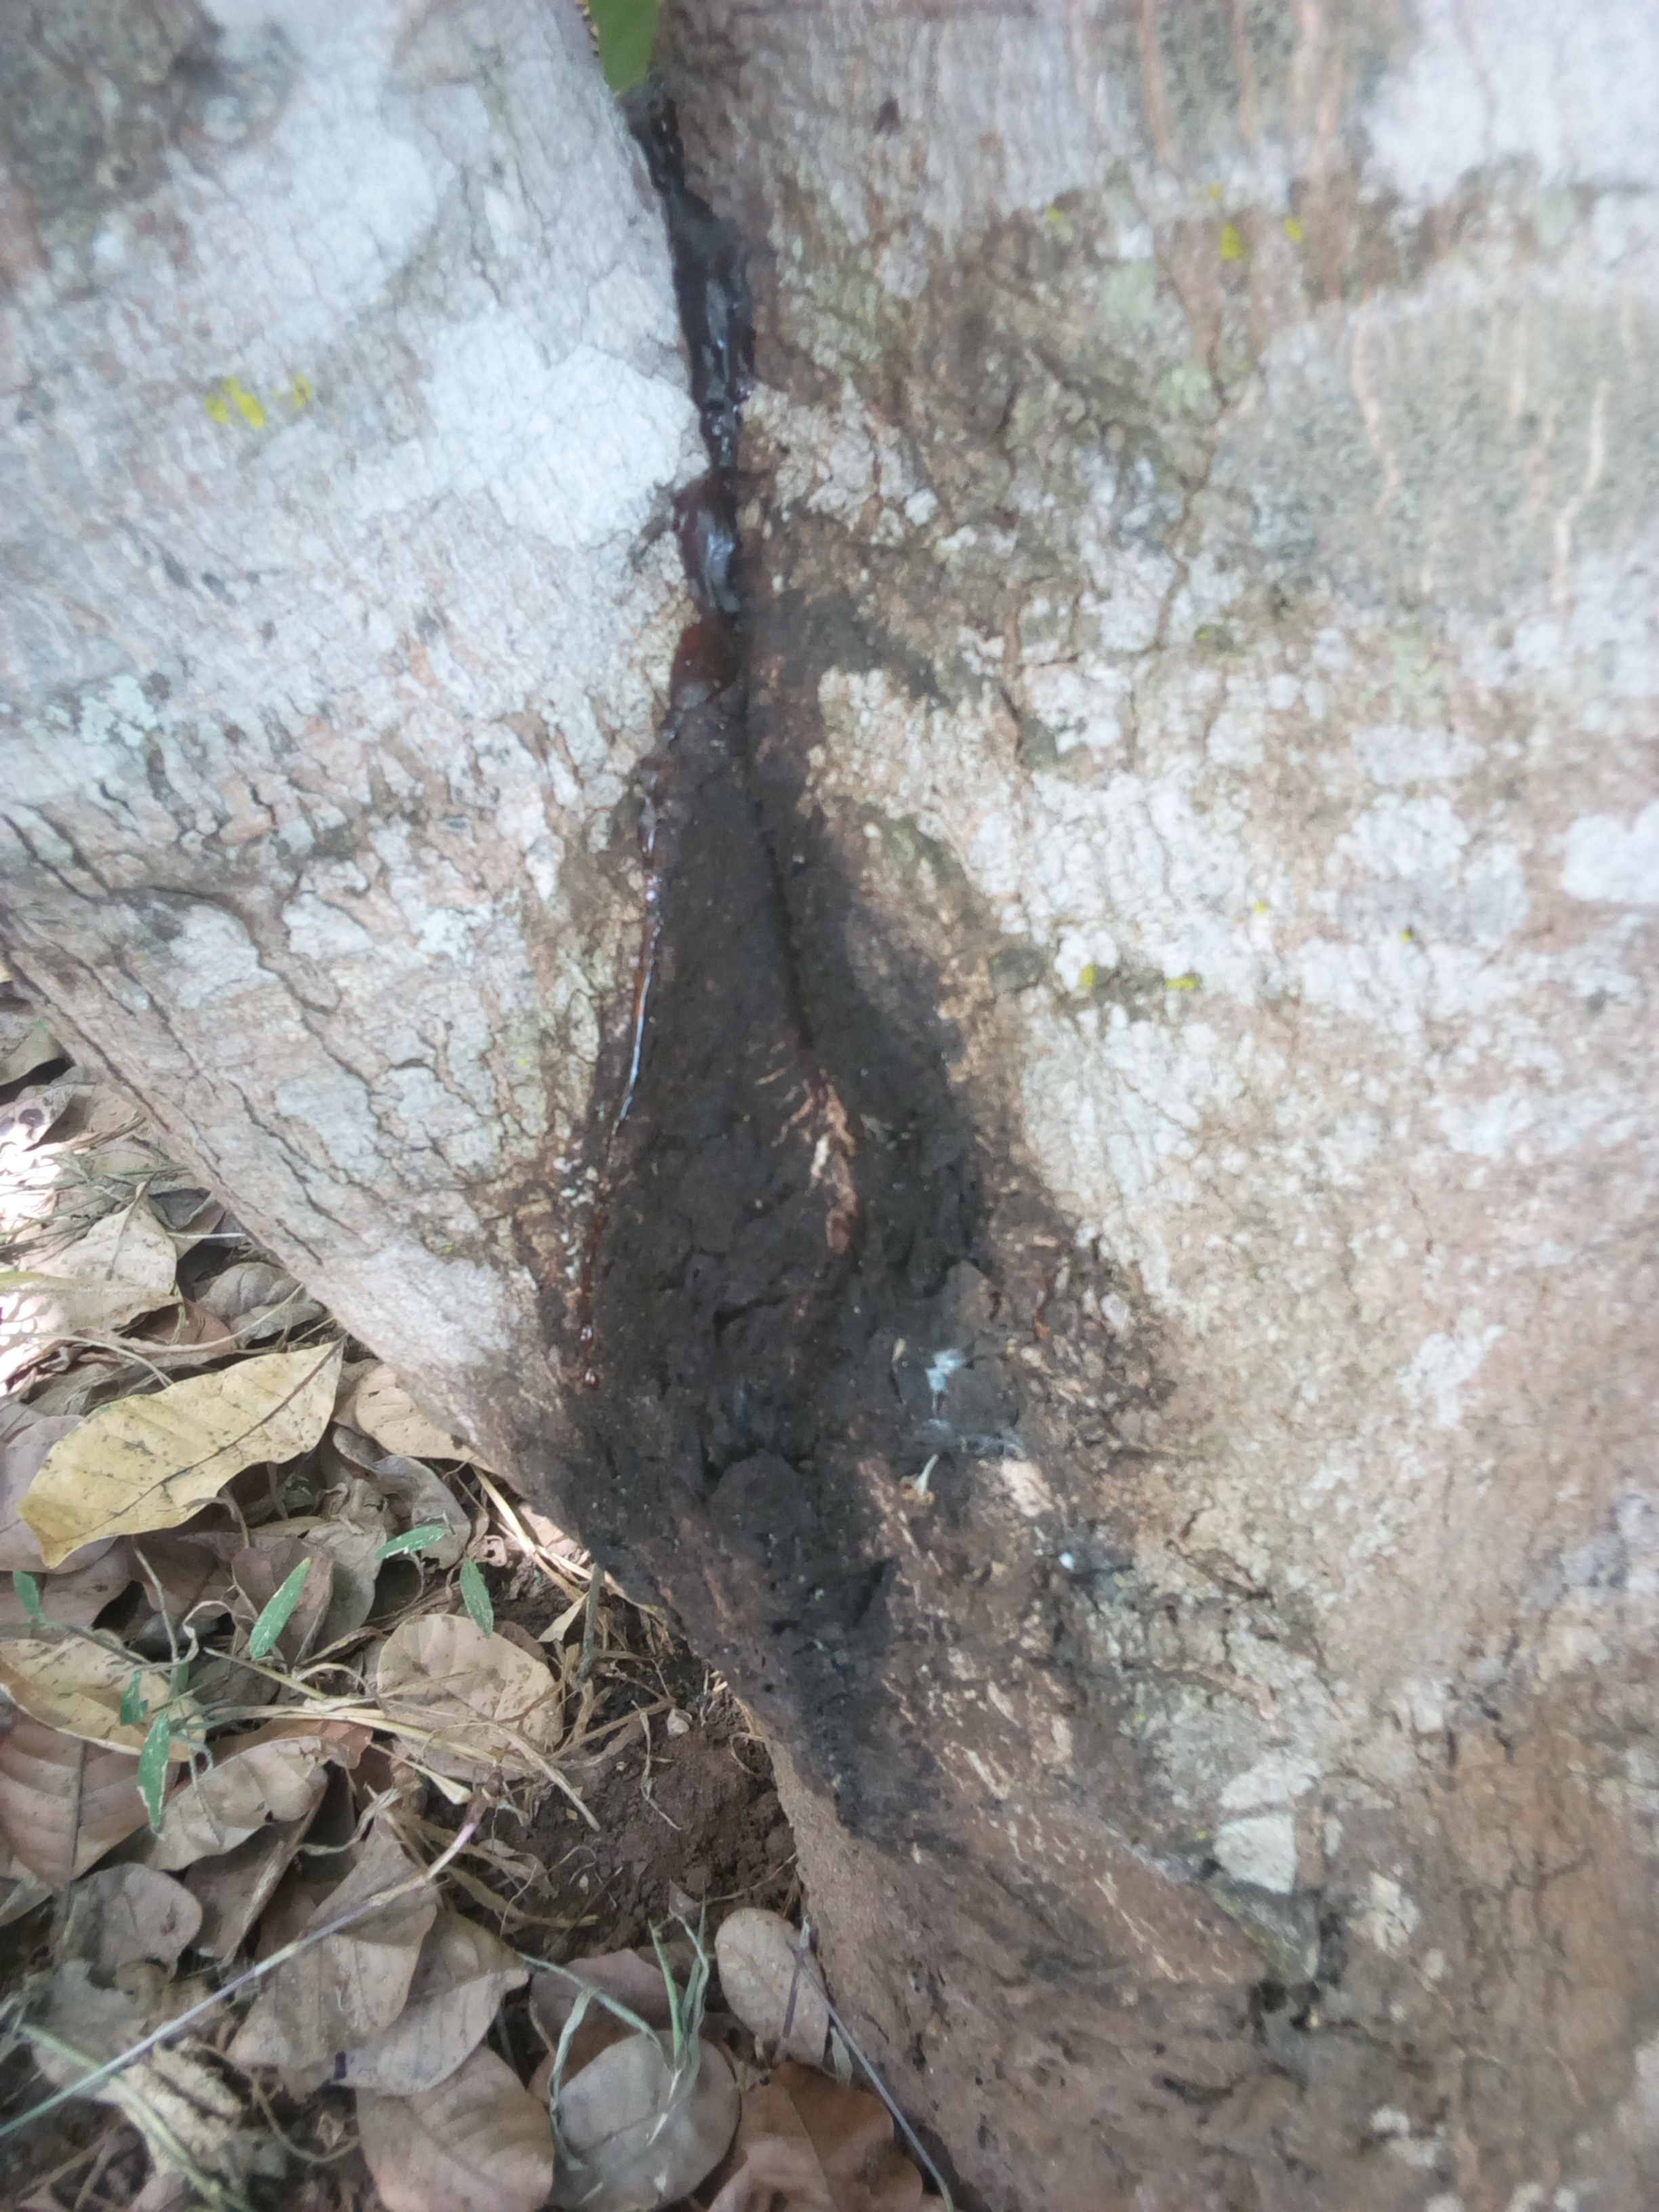Gommose: (606, 909, 1009, 1784), (671, 439, 748, 693)
